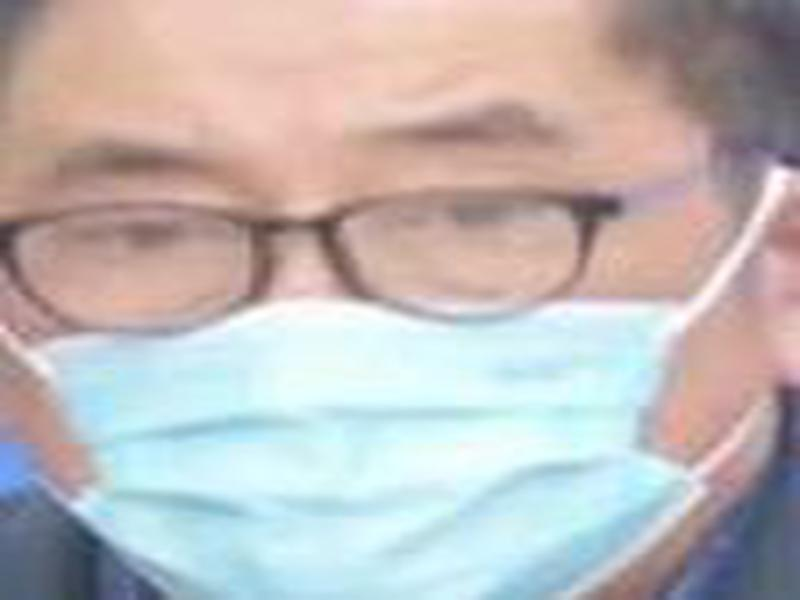with_mask: (6, 3, 797, 600)
